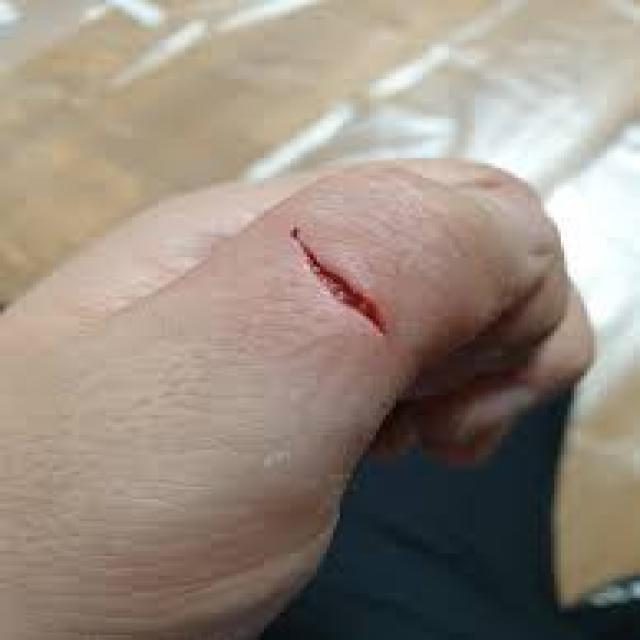wound: (256, 208, 428, 375)
